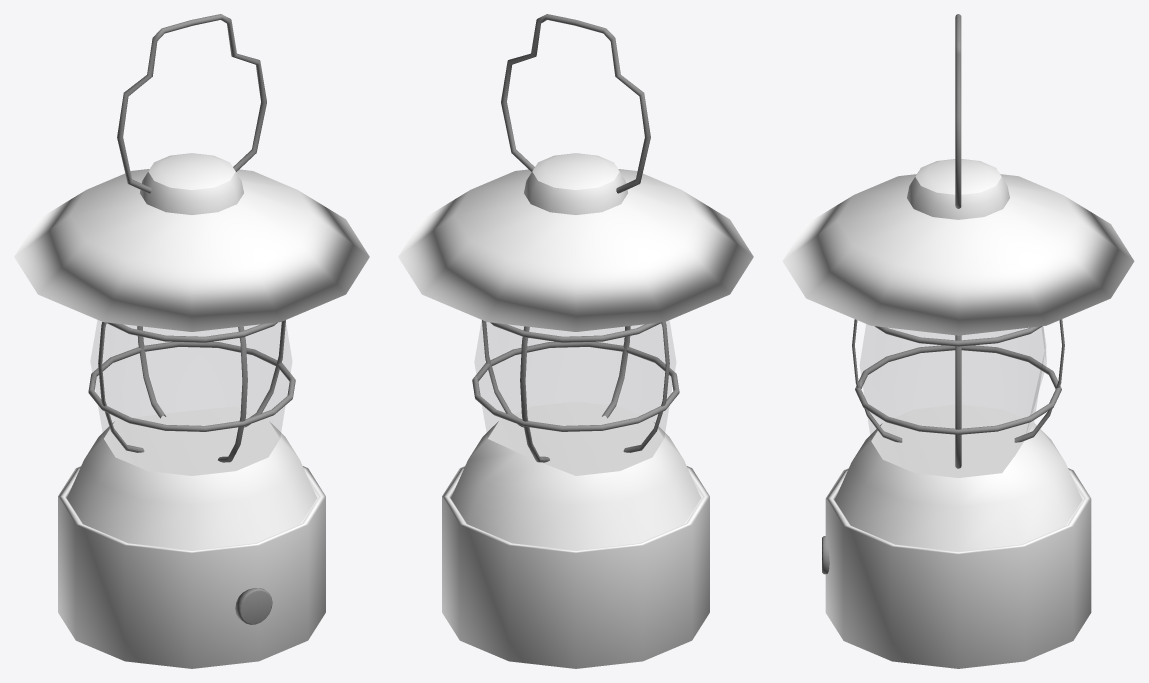
The model's file is lamp_white.fbx.
3 views of the same model, side by side, from view 1: azimuth 30°, elevation 25°; view 2: azimuth 150°, elevation 25°; view 3: azimuth 270°, elevation 25° (orthographic).
Visible parts, largest first — view 1: lamp1; view 2: lamp1; view 3: lamp1.
Part boxes in pixels (left/top/right/bottom): lamp1: left=14, top=14, right=369, bottom=668; lamp1: left=398, top=14, right=753, bottom=668; lamp1: left=782, top=14, right=1134, bottom=668.
Size of the model in its own units: 0.00424 by 0.00778 by 0.00424.
Materials: 2 (1 with a texture image).
